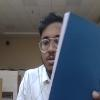notebook: (46, 10, 99, 99)
